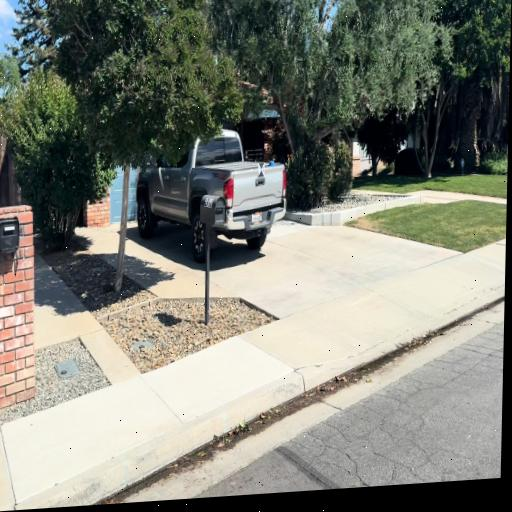target1: (258, 162, 264, 177)
